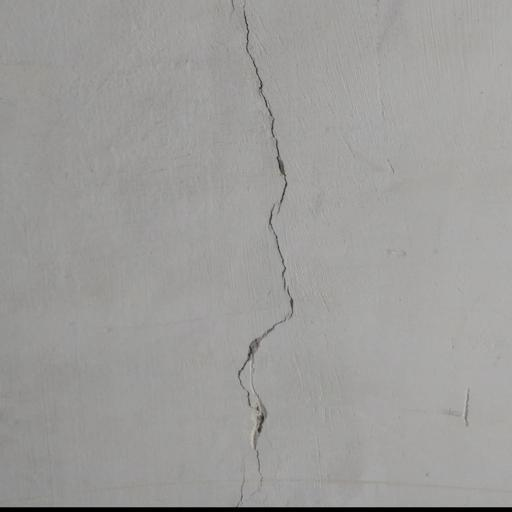major_crack: (211, 0, 293, 512)
